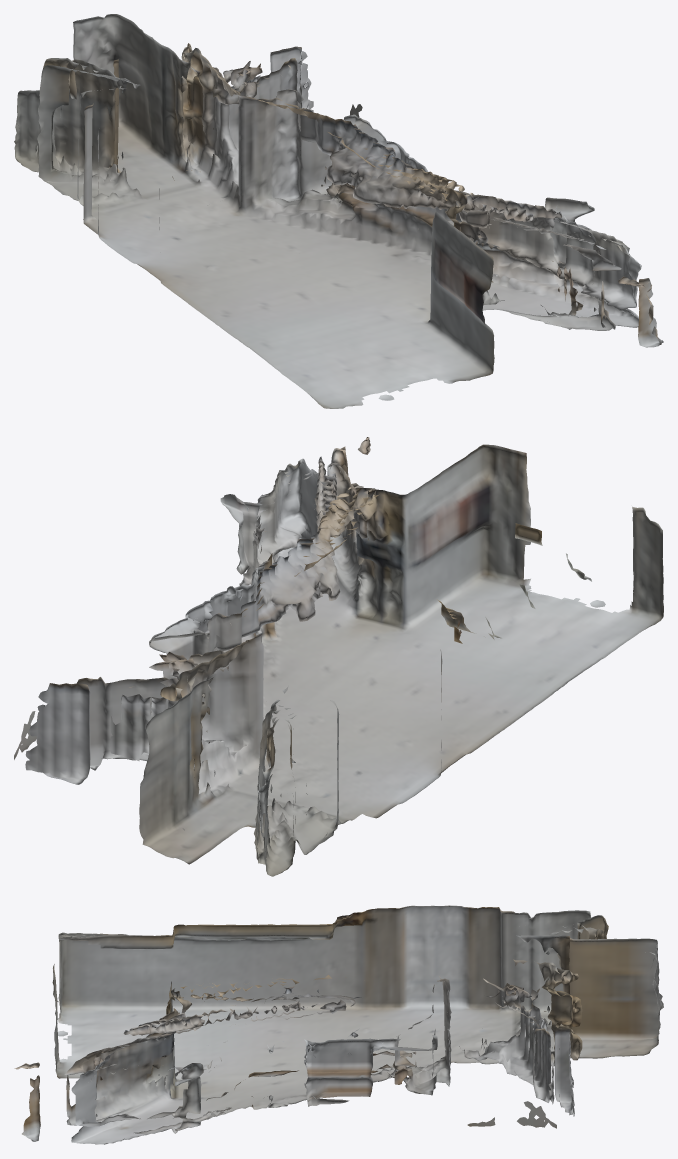
File: world.glb
3 renders of one model, top to bottom at view 1: azimuth 30°, elevation 25°; view 2: azimuth 150°, elevation 25°; view 3: azimuth 270°, elevation 25°, orthographic. The views are drawn at different scales.
Visible parts, largest first — view 1: world; view 2: world; view 3: world.
Part boxes in pixels (left/top/right/bottom): world: left=14, top=14, right=663, bottom=408; world: left=14, top=437, right=663, bottom=876; world: left=14, top=905, right=663, bottom=1144.
Size of the model in its own units: 4.88 by 1.72 by 9.36.
